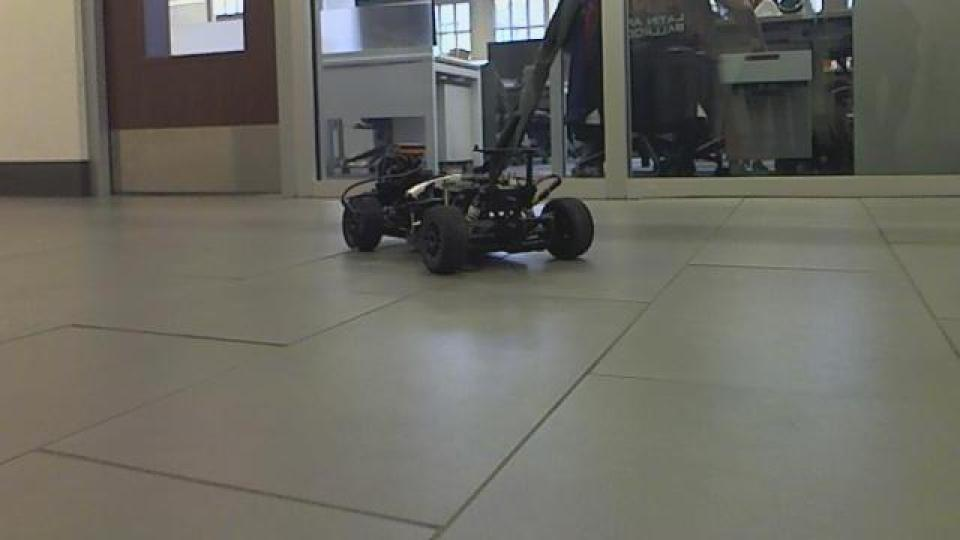car: (334, 2, 599, 276)
